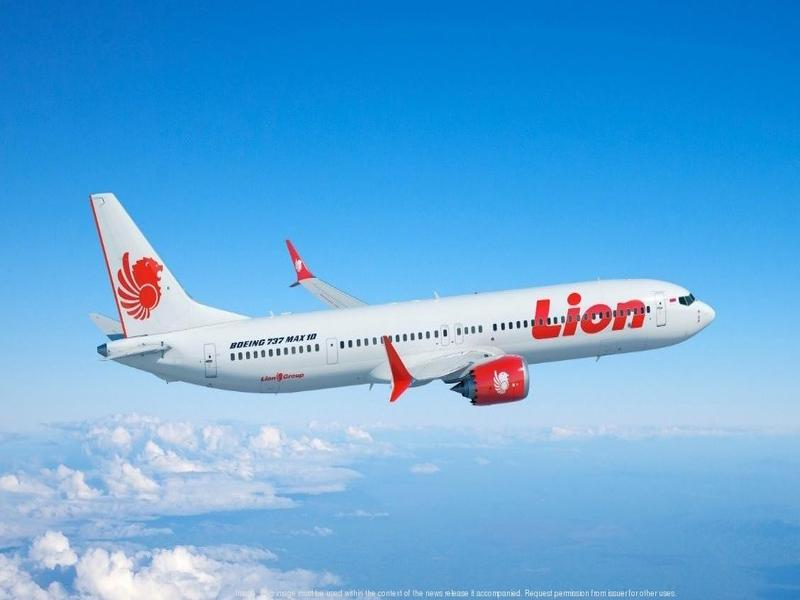737-MAX: (75, 190, 723, 409)
